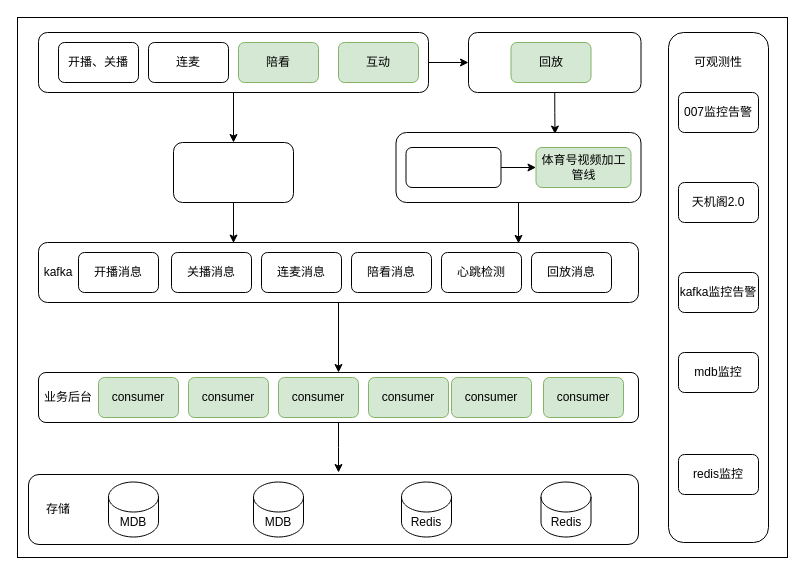
Some shapes in this 805 by 575 pixel diagram are drawn without their labels. The shapes that lost their labels are listed below. From the top down, each one's centre as x and y in pixels, then its label:
At point (233, 172): "直播中台SDK".
At point (453, 167): "音视频中台".
